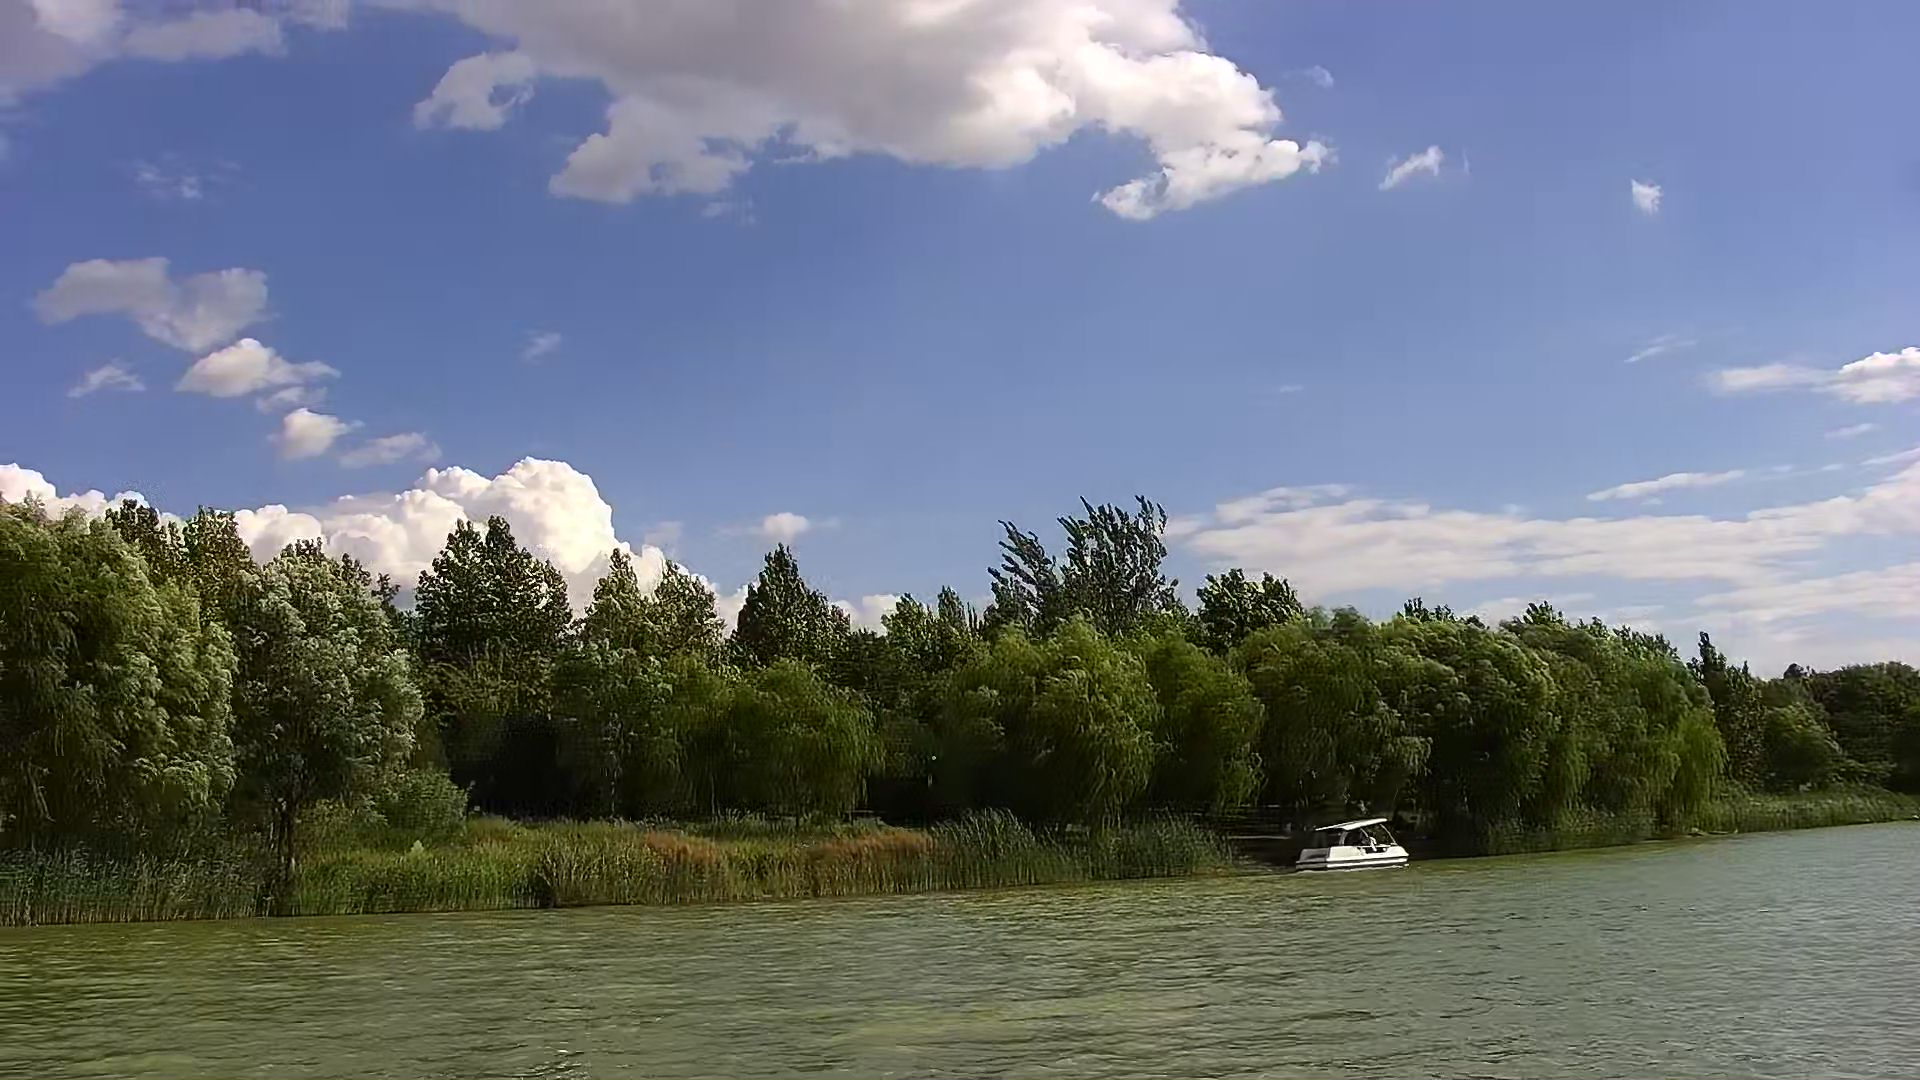boat: (1295, 818, 1414, 869)
